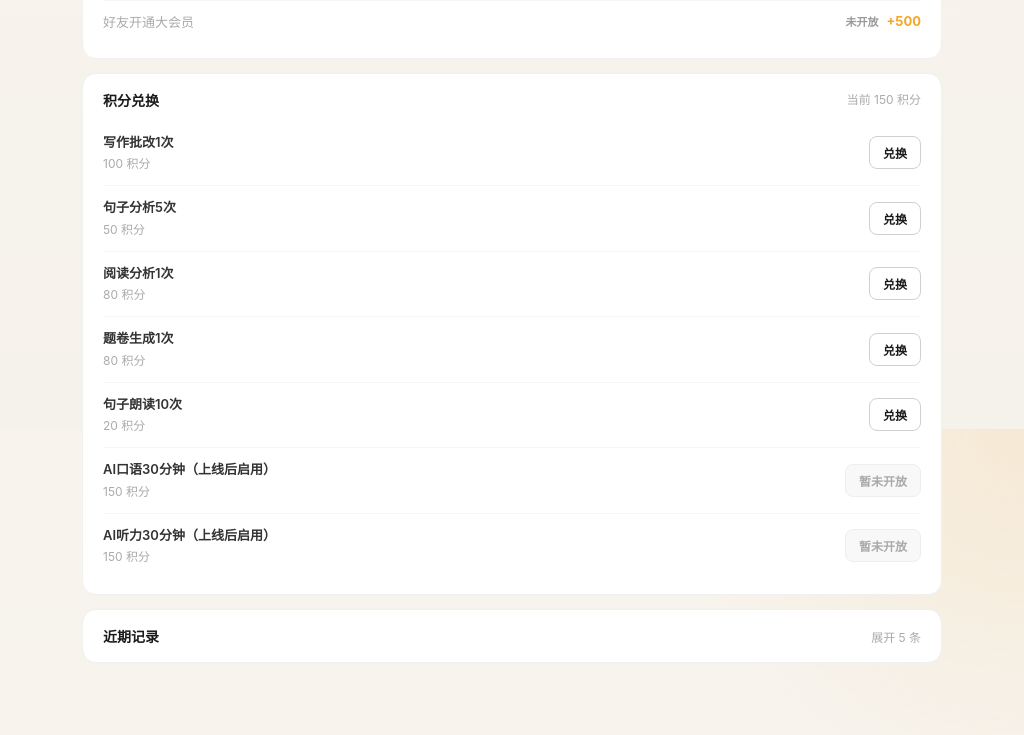
PointsPage › renders readable ledger labels instead of internal event keys
This screenshot has width=1024, height=735.
(page scrolled)
Click the button "近期记录 展开 5 条" at (131, 637), box [103,626,921,646]
(page scrolled)
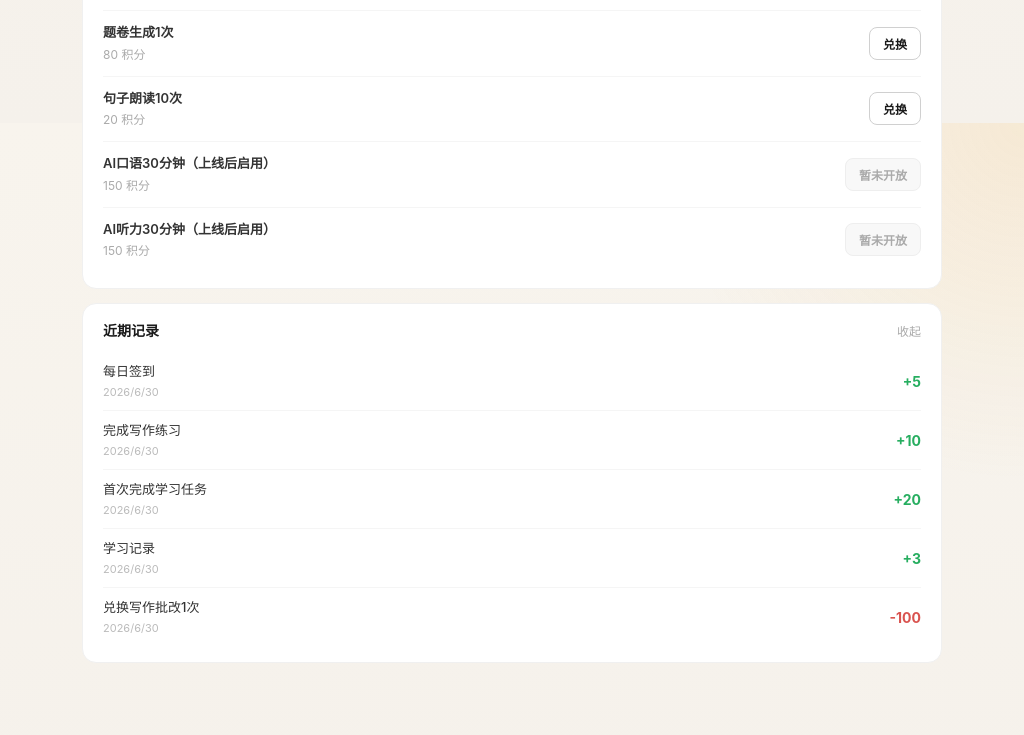
Now the text "兑换写作批改1次" is shown, box [103,598,199,618]
Now the text "学习记录" is shown, box [103,539,159,559]
